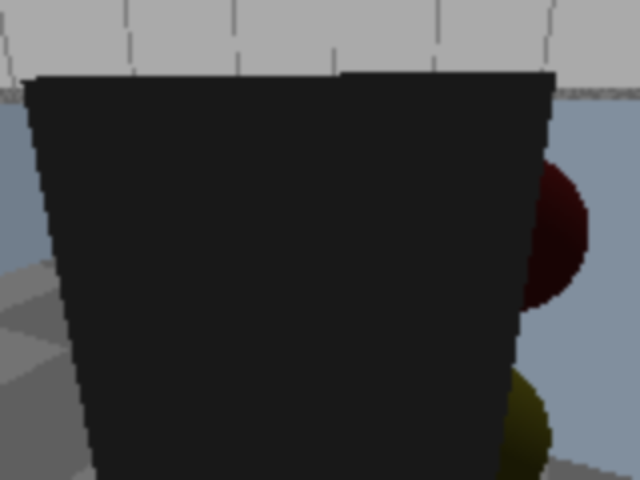obstacle: (157, 187, 242, 246)
puck: (170, 265, 197, 291)
traffic_light: (6, 0, 577, 478)
